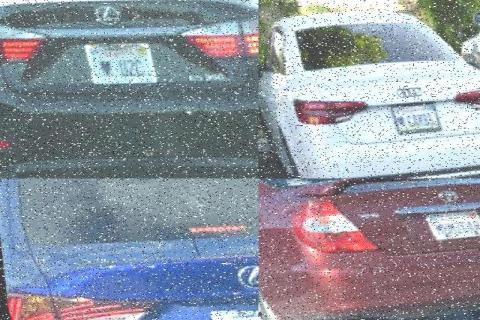LicensePlate: (80, 38, 154, 89), (419, 208, 478, 239), (388, 99, 440, 132)
